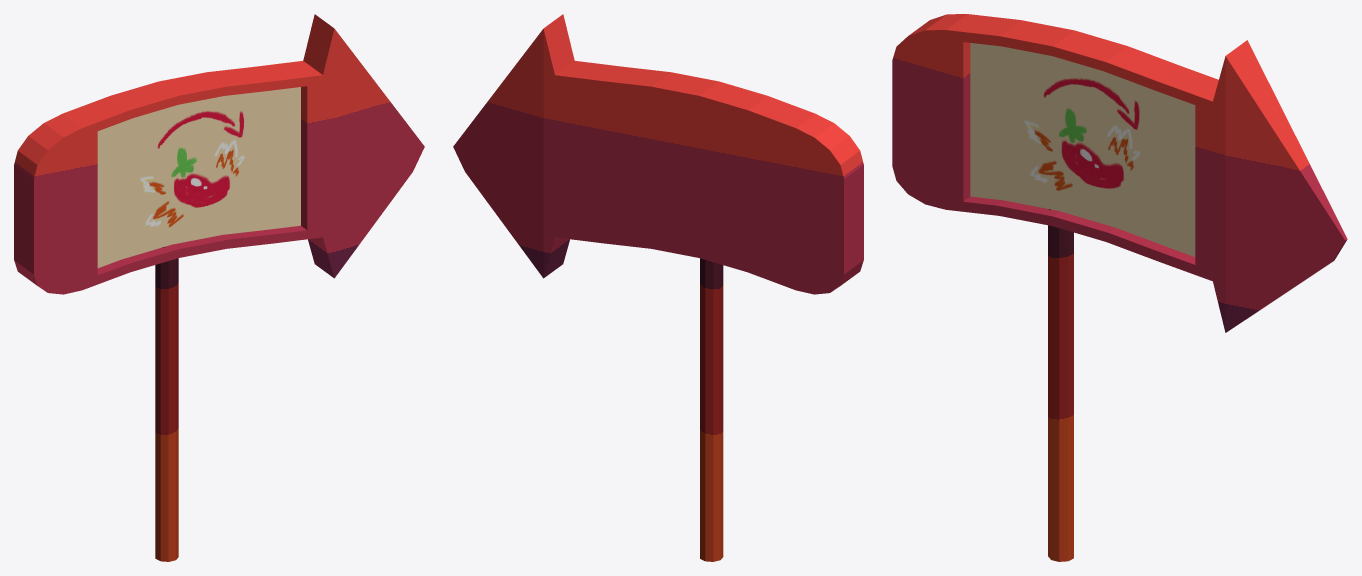
The model's file is Flecha salto Chilly Der.fbx.
The picture shows the model from 3 angles, left to right: view 1: azimuth 30°, elevation 25°; view 2: azimuth 150°, elevation 25°; view 3: azimuth 330°, elevation 25°; orthographic projection. The views are drawn at different scales.
Visible parts, largest first — view 1: Cylinder.004, Cylinder.005; view 2: Cylinder.004; view 3: Cylinder.004, Cylinder.005.
Boxes of the visible parts, left/top/right/bottom form: Cylinder.004: left=14, top=14, right=424, bottom=561; Cylinder.005: left=97, top=87, right=300, bottom=267; Cylinder.004: left=453, top=14, right=863, bottom=561; Cylinder.004: left=892, top=14, right=1347, bottom=561; Cylinder.005: left=970, top=43, right=1195, bottom=256.
Bounding box in the file's own units: 459 × 545 × 39.22.
2 materials, 2 textured.
